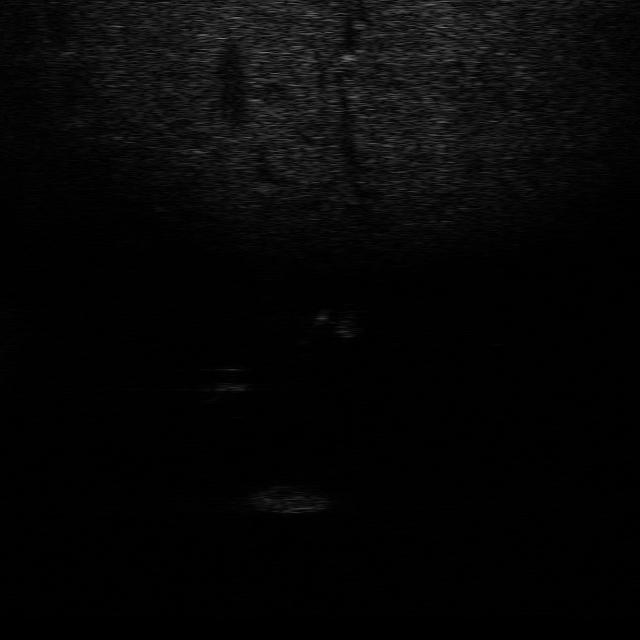ball: (192, 361, 252, 393)
circle cage: (238, 478, 332, 518)
human body: (295, 304, 369, 346)
